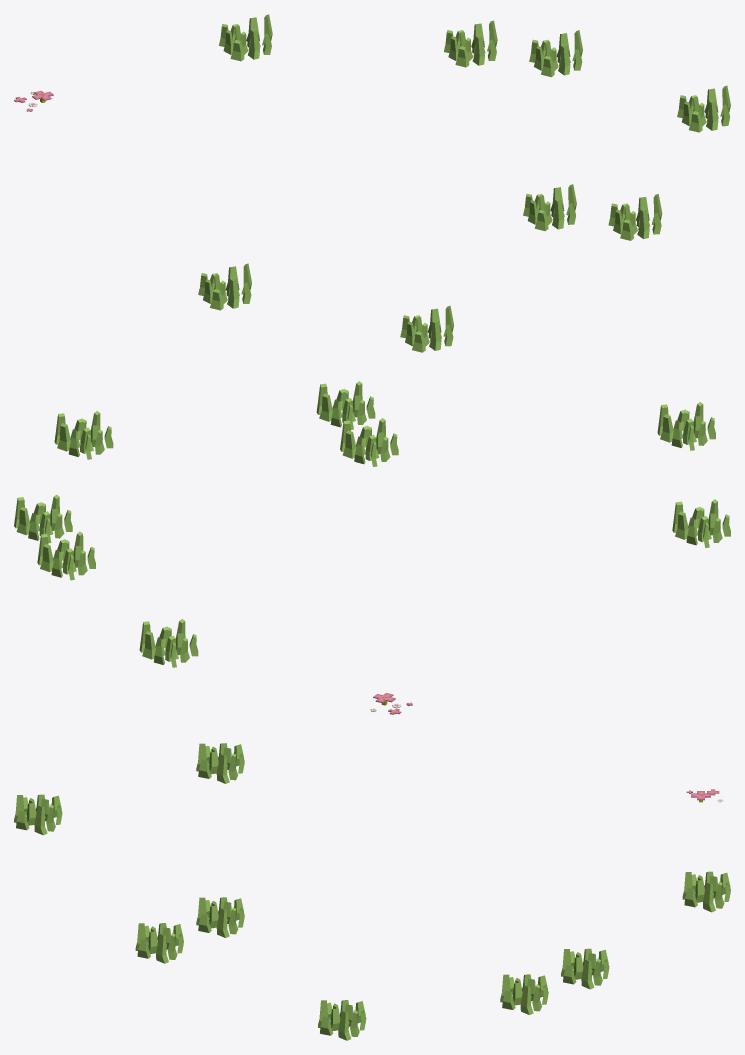
The model's file is flower_grass 19.fbx.
3 renders of one model, top to bottom at view 1: azimuth 30°, elevation 25°; view 2: azimuth 150°, elevation 25°; view 3: azimuth 270°, elevation 25°, orthographic. The views are drawn at different scales.
Visible parts, largest first — view 1: Grass_6; view 2: Grass_6; view 3: Grass_6.
Part boxes in pixels (x1=…): Grass_6: x1=14, y1=14, x2=730, y2=352; Grass_6: x1=14, y1=381, x2=730, y2=714; Grass_6: x1=14, y1=743, x2=730, y2=1040.
Bounding box in the file's own units: 6546 × 294 × 7079.
Materials: 2 (2 with a texture image).
